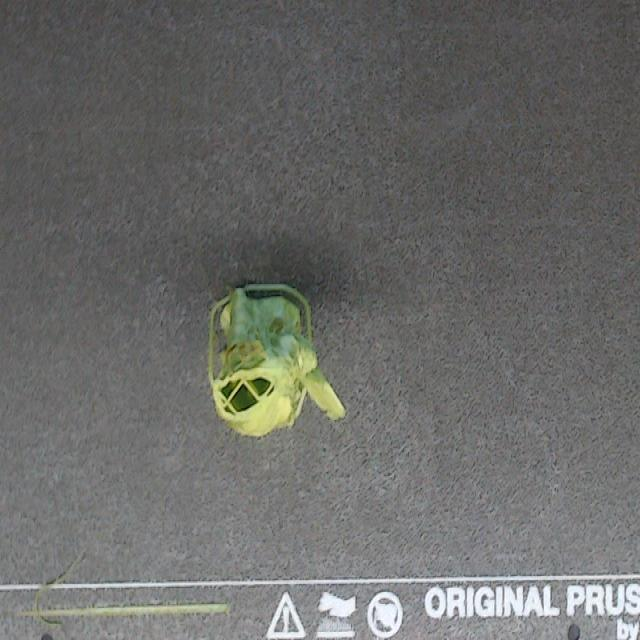mistake: (238, 341, 266, 367), (221, 349, 230, 371)
